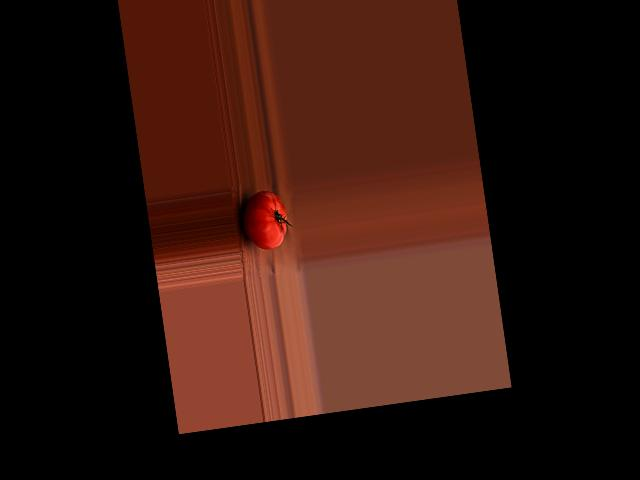tomato: (238, 188, 291, 253)
